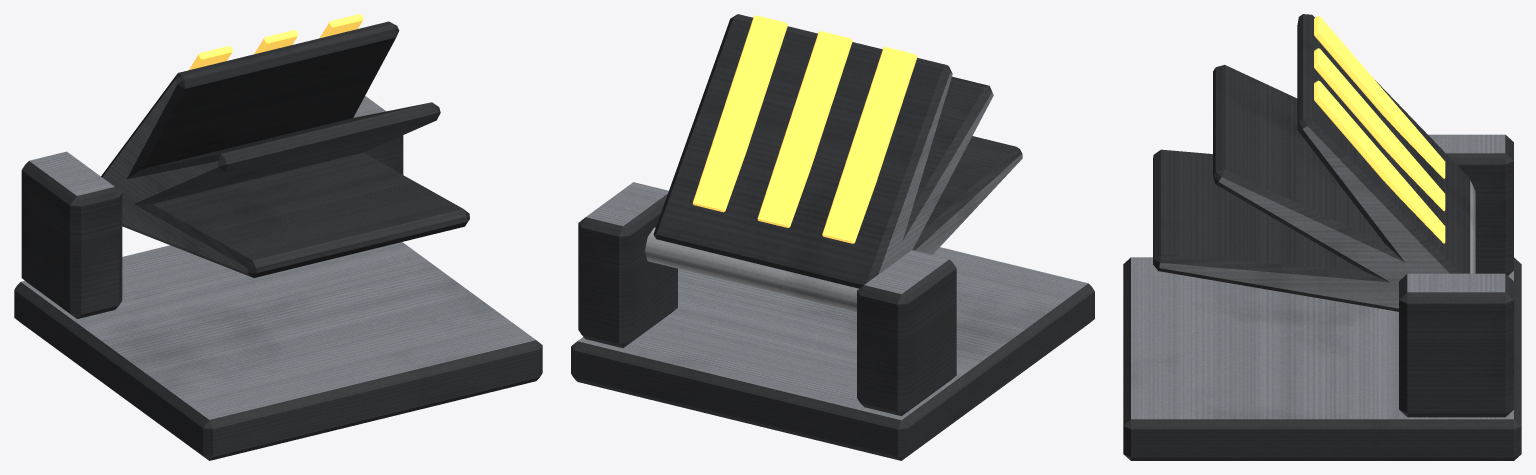
Rendered from R4X_RampDeployer_LOD1.glb.
3 views of the same model, side by side, from view 1: azimuth 30°, elevation 25°; view 2: azimuth 150°, elevation 25°; view 3: azimuth 270°, elevation 25° (orthographic). The views are drawn at different scales.
Visible parts, largest first — view 1: R4X_RampDeployer_LOD1; view 2: R4X_RampDeployer_LOD1; view 3: R4X_RampDeployer_LOD1.
Part boxes in pixels (left/top/right/bottom): R4X_RampDeployer_LOD1: left=14, top=14, right=542, bottom=460; R4X_RampDeployer_LOD1: left=571, top=14, right=1094, bottom=460; R4X_RampDeployer_LOD1: left=1123, top=14, right=1521, bottom=460.
Bounding box in the file's own units: 0.52 × 0.4673 × 0.52.
4 materials, 3 textured.
